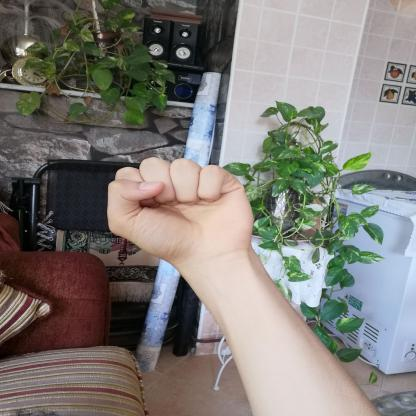SAD: (90, 143, 264, 275)
